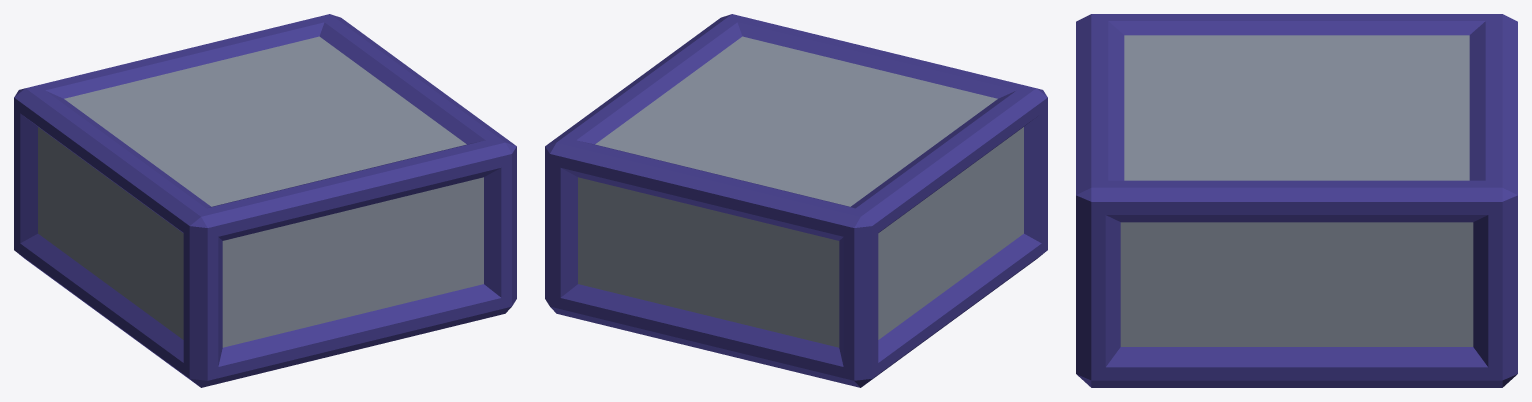
The model's file is switchable_platform.fbx.
The picture shows the model from 3 angles, left to right: view 1: azimuth 30°, elevation 25°; view 2: azimuth 150°, elevation 25°; view 3: azimuth 270°, elevation 25°; orthographic projection. The views are drawn at different scales.
Visible parts, largest first — view 1: Cube.002; view 2: Cube.002; view 3: Cube.002.
Boxes of the visible parts, x1,y1,x2,y2 form: Cube.002: (14, 14, 516, 387); Cube.002: (545, 14, 1047, 387); Cube.002: (1076, 14, 1517, 387).
Size of the model in its own units: 100 by 50 by 100.
